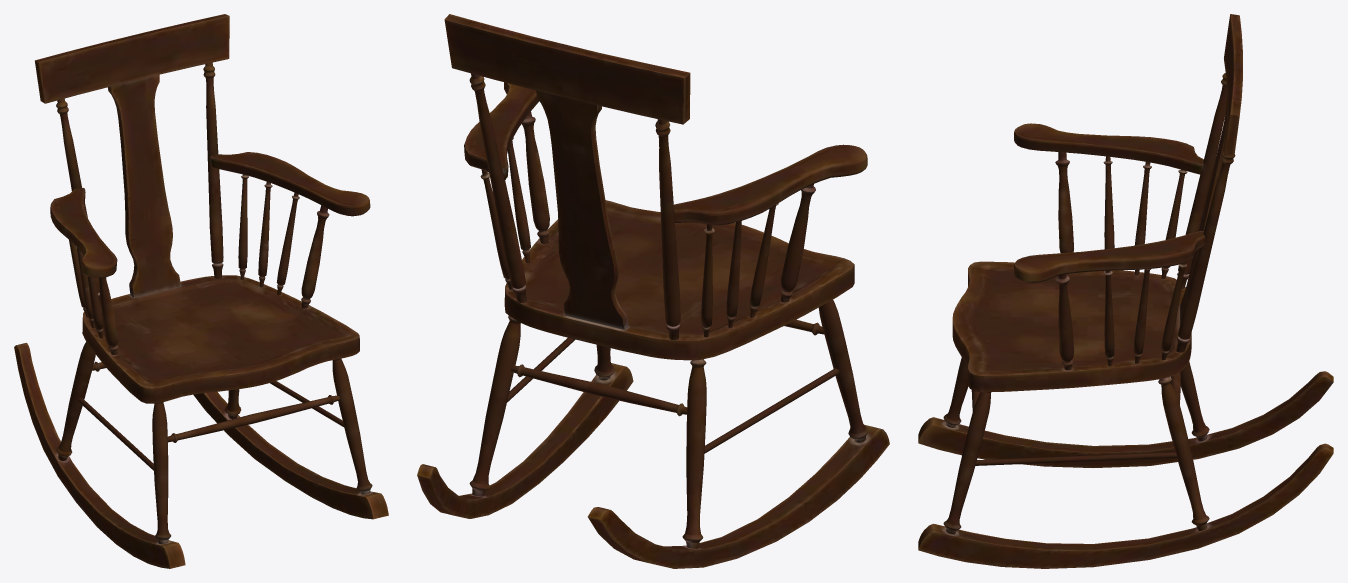
The model's file is rocking-chair.glb.
The picture shows the model from 3 angles, left to right: view 1: azimuth 30°, elevation 25°; view 2: azimuth 150°, elevation 25°; view 3: azimuth 270°, elevation 25°; orthographic projection. The views are drawn at different scales.
Visible parts, largest first — view 1: Rockingchair_01; view 2: Rockingchair_01; view 3: Rockingchair_01.
Boxes of the visible parts, x1=… form: Rockingchair_01: x1=14, y1=14, x2=388, y2=568; Rockingchair_01: x1=417, y1=14, x2=889, y2=568; Rockingchair_01: x1=918, y1=14, x2=1333, y2=568.
Bounding box in the file's own units: 0.7081 × 0.9949 × 0.8335.
1 material, 1 textured.
